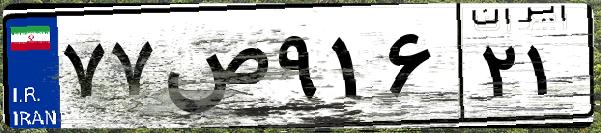1: (330, 28, 385, 110), (525, 38, 570, 115)
2: (475, 38, 525, 113)
6: (385, 28, 445, 110)
7: (57, 26, 110, 100), (110, 28, 158, 98)
9: (270, 28, 330, 110)
ص: (158, 20, 270, 120)
